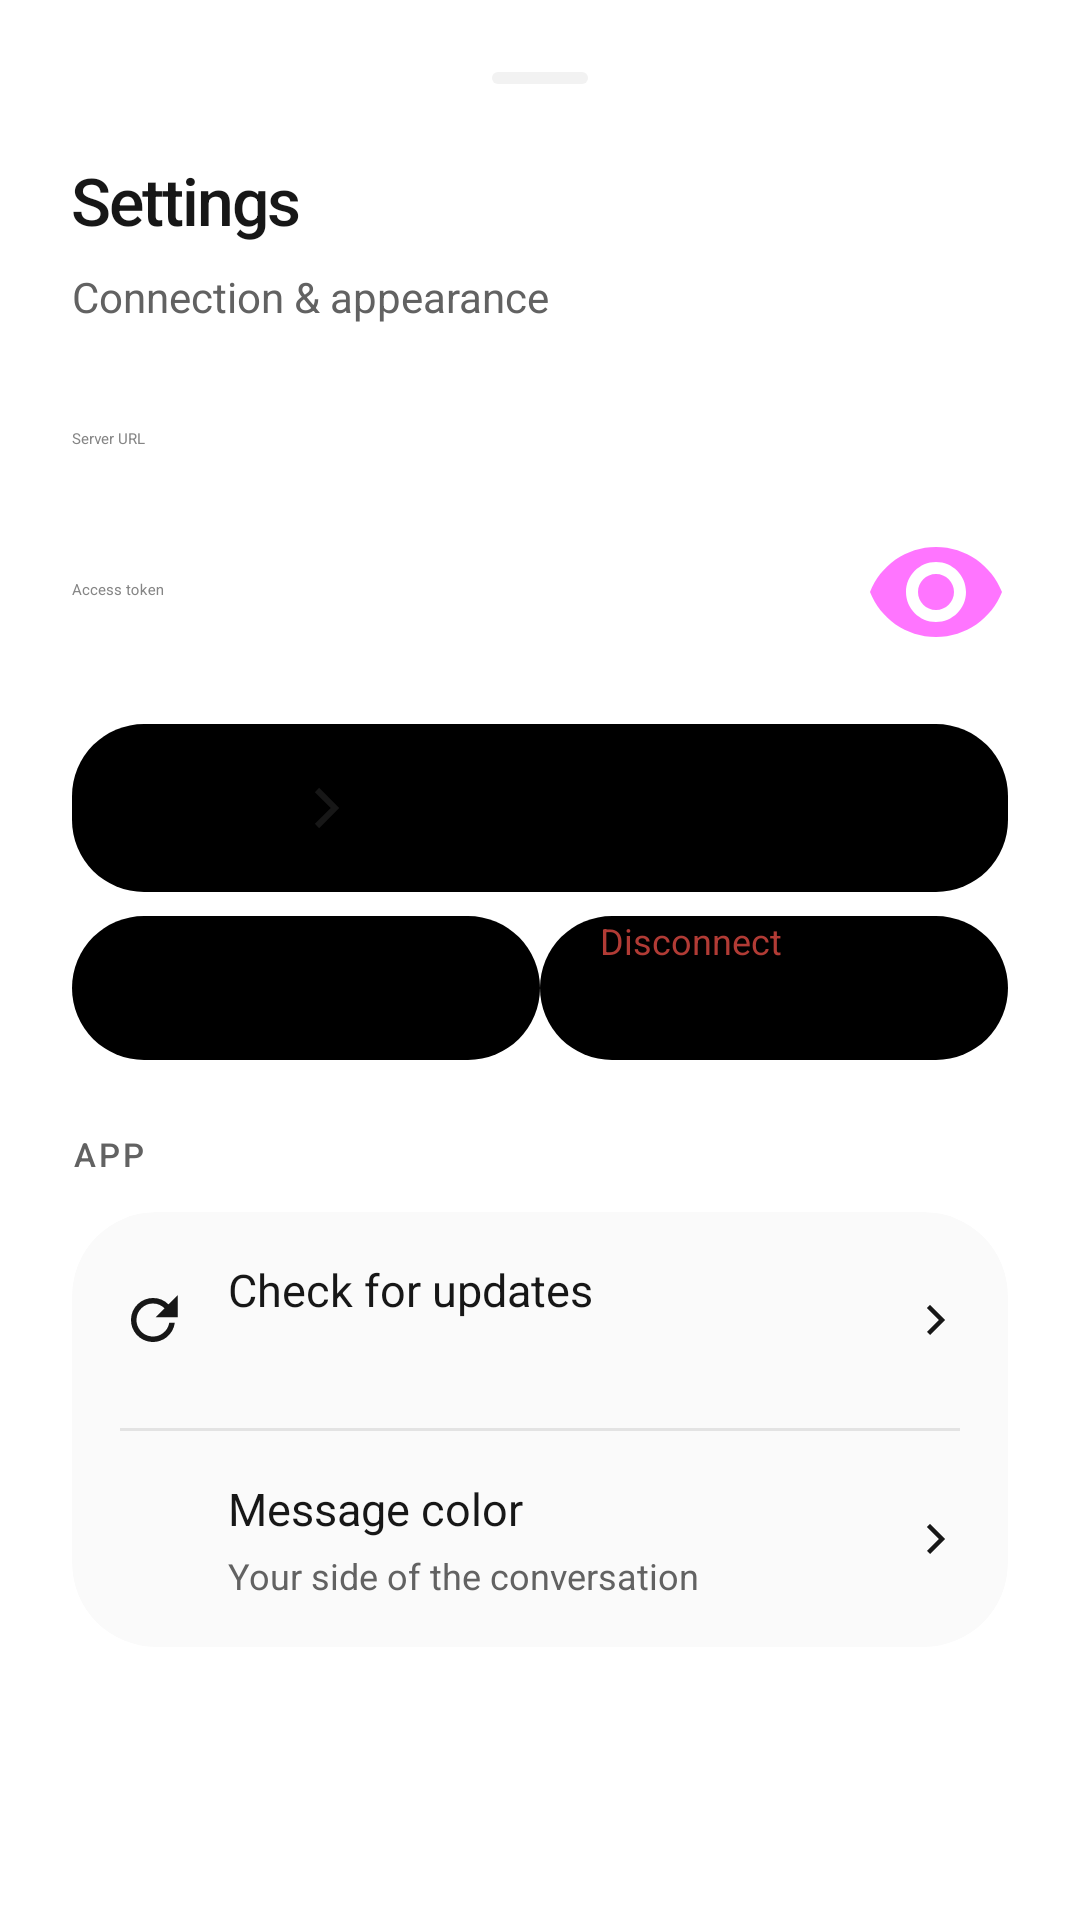

Icons on this 1080px×1920px Android screen, each with its box as box(x1, y1, x2, y2):
chevron: box(927, 1305, 945, 1335), box(927, 1524, 945, 1554)
refresh: box(131, 1295, 178, 1342)
